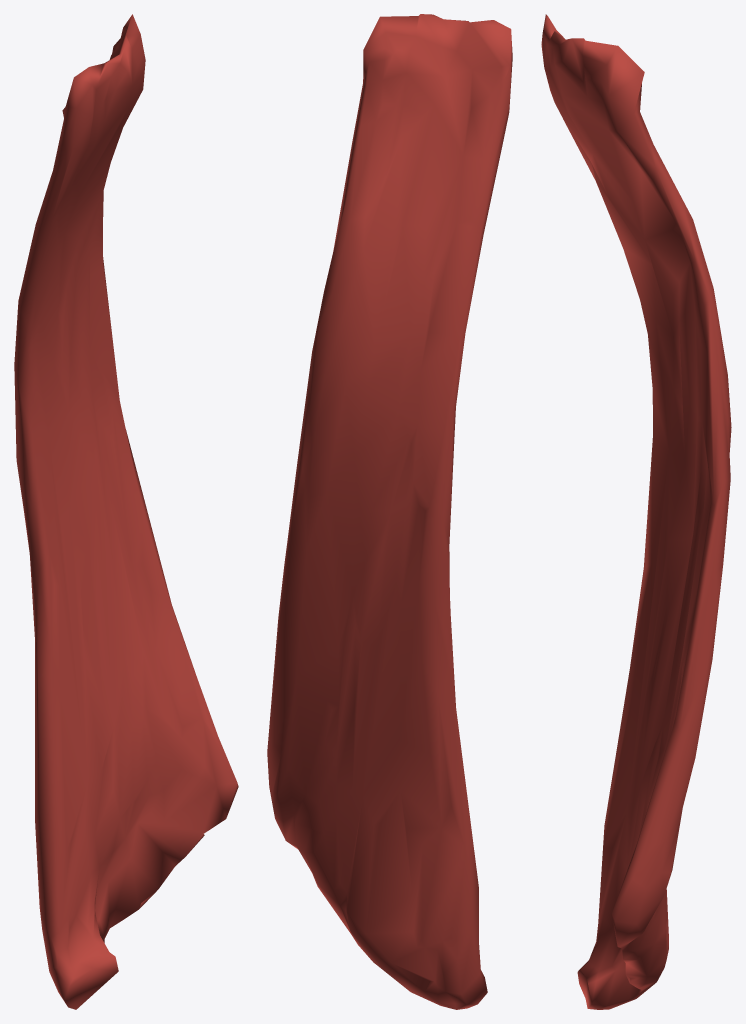
The model's file is musculos-sternohyoid-muscle-l.glb.
3 renders of one model, left to right at view 1: azimuth 30°, elevation 25°; view 2: azimuth 150°, elevation 25°; view 3: azimuth 270°, elevation 25°, orthographic. The views are drawn at different scales.
Visible parts, largest first — view 1: Sternohyoid muscle.l; view 2: Sternohyoid muscle.l; view 3: Sternohyoid muscle.l.
Boxes of the visible parts, left/top/right/bottom form: Sternohyoid muscle.l: left=14, top=14, right=238, bottom=1009; Sternohyoid muscle.l: left=267, top=14, right=512, bottom=1009; Sternohyoid muscle.l: left=541, top=14, right=731, bottom=1009.
Size of the model in its own units: 0.0238 by 0.1081 by 0.0186.
